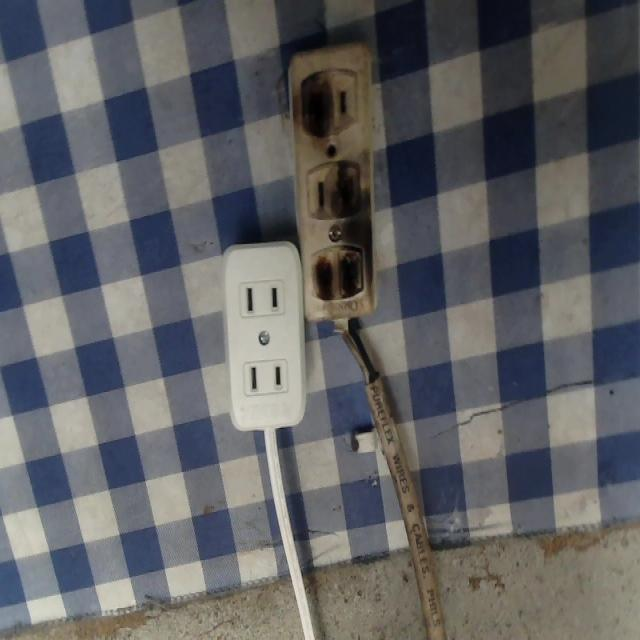-: (308, 242, 371, 318), (298, 72, 338, 143), (322, 159, 367, 220)
